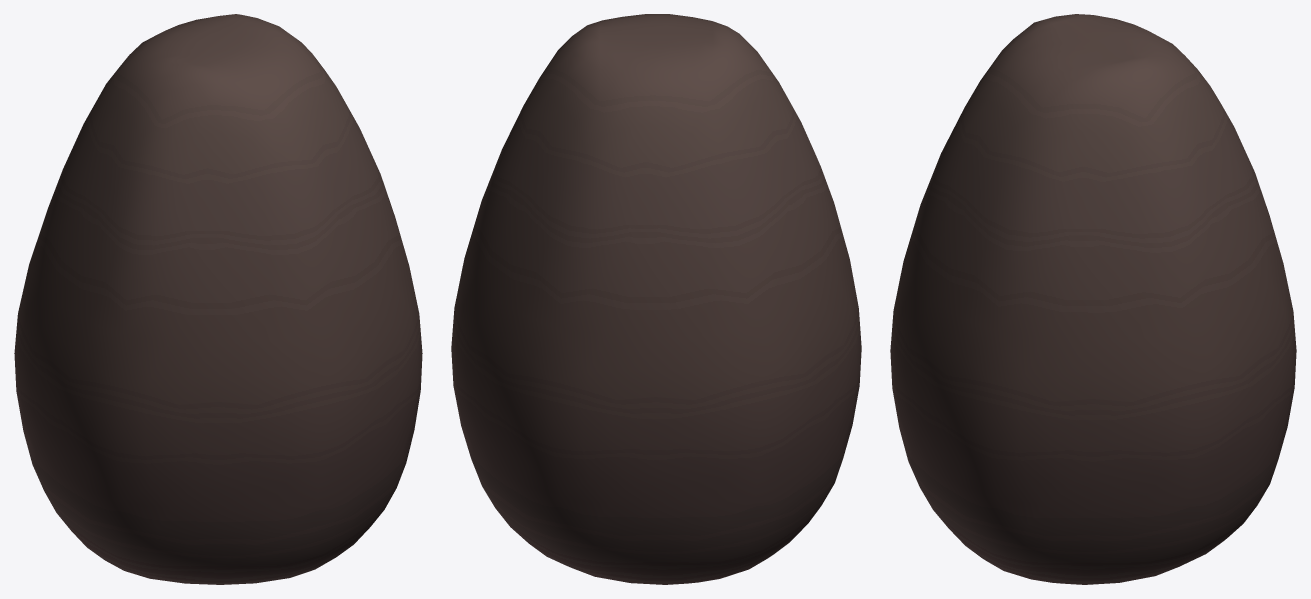
3 views of the same model, side by side, from view 1: azimuth 30°, elevation 25°; view 2: azimuth 150°, elevation 25°; view 3: azimuth 270°, elevation 25° (orthographic).
Size of the model in its own units: 0.7027 by 1 by 0.737.
1 material, 1 textured.
